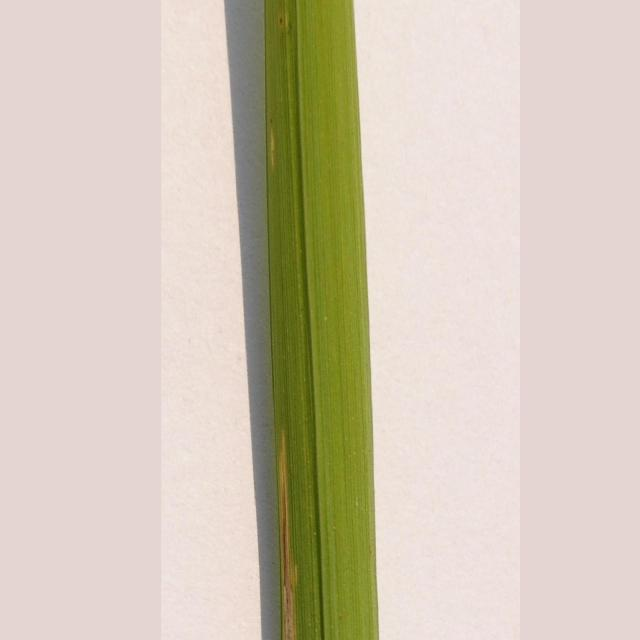leaf blight: (272, 424, 321, 638)
